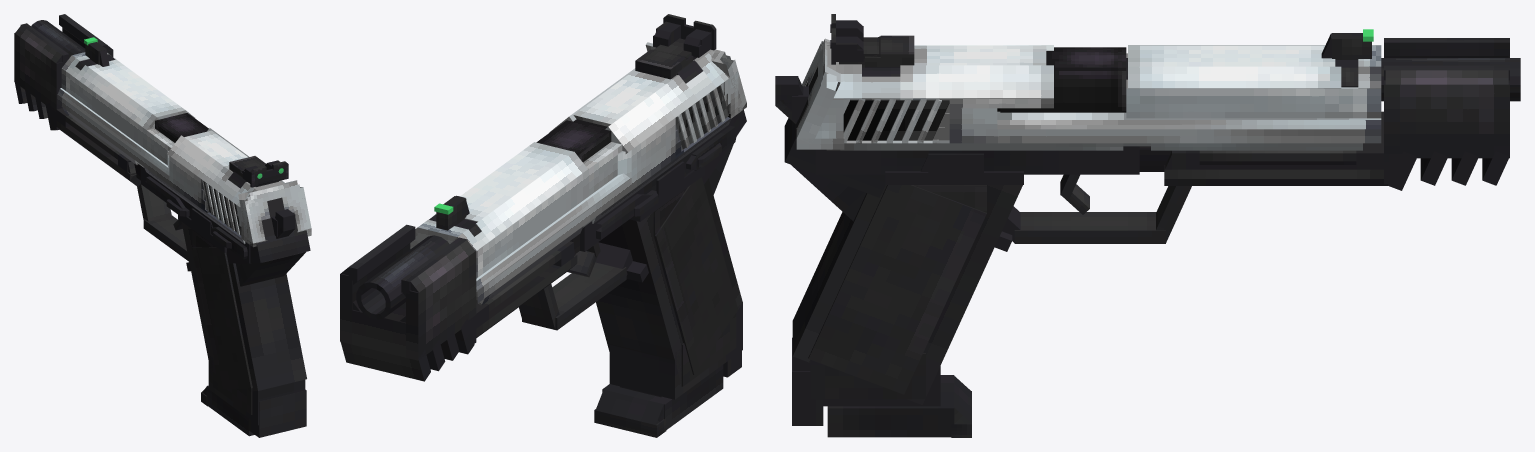
The model's file is HL2 USP.gltf.
3 renders of one model, left to right at view 1: azimuth 30°, elevation 25°; view 2: azimuth 150°, elevation 25°; view 3: azimuth 270°, elevation 25°, orthographic. The views are drawn at different scales.
Parts seen in each view (by area): view 1: grip_main_slope, grip_texture_base, l_comp_base, mid_top_a, grip_main_cube, mid_mid_a, lid_rear_c, lid_front_a, grip_back_tilt_a, grip_top_tilt, grip_main_bottom, mid_base (+29 smaller); view 2: grip_texture_base, grip_main_slope, l_comp_base, Grip (×3), grip_main_bottom, mid_top_a, mid_mid_a, lid_rear_c, lid_front_a, guard_bottom, mid_rear_c, comp_vent_tilt (×2) (+35 smaller); view 3: grip_texture_base, grip_main_slope, r_comp_base, mid_mid_a, frame_main_rear, lid_rear_c, Grip (×2), chamber_base_curve, mid_base, lid_front_a, guard_bottom, mid_top_a (+32 smaller).
Boxes of the visible parts, left/top/right/bottom form: grip_main_slope: left=181, top=221, right=306, bottom=391; grip_texture_base: left=191, top=247, right=252, bottom=388; l_comp_base: left=14, top=33, right=65, bottom=111; mid_top_a: left=88, top=59, right=185, bottom=119; grip_main_cube: left=248, top=389, right=306, bottom=437; mid_mid_a: left=61, top=68, right=154, bottom=149; lid_rear_c: left=167, top=135, right=232, bottom=190; lid_front_a: left=75, top=65, right=158, bottom=129; grip_back_tilt_a: left=227, top=229, right=310, bottom=263; grip_top_tilt: left=235, top=252, right=305, bottom=286; grip_main_bottom: left=208, top=355, right=305, bottom=425; mid_base: left=57, top=94, right=169, bottom=184; grip_texture_base: left=654, top=177, right=738, bottom=374; grip_main_slope: left=596, top=178, right=742, bottom=390; l_comp_base: left=406, top=250, right=476, bottom=360; Grip (×3): left=594, top=365, right=723, bottom=437; grip_main_bottom: left=609, top=303, right=742, bottom=399; mid_top_a: left=460, top=142, right=573, bottom=221; mid_mid_a: left=410, top=168, right=588, bottom=278; lid_rear_c: left=605, top=75, right=698, bottom=153; lid_front_a: left=475, top=151, right=587, bottom=240; guard_bottom: left=522, top=262, right=626, bottom=330; mid_rear_c: left=573, top=70, right=678, bottom=126; comp_vent_tilt (×2): left=340, top=318, right=474, bottom=381; grip_texture_base: left=808, top=185, right=986, bottom=394; grip_main_slope: left=792, top=185, right=1022, bottom=404; r_comp_base: left=1384, top=80, right=1509, bottom=158; mid_mid_a: left=1126, top=53, right=1381, bottom=118; frame_main_rear: left=815, top=146, right=1139, bottom=174; lid_rear_c: left=900, top=65, right=1053, bottom=100; Grip (×2): left=827, top=375, right=971, bottom=437; chamber_base_curve: left=1000, top=47, right=1126, bottom=112; mid_base: left=1046, top=129, right=1381, bottom=143; lid_front_a: left=1128, top=66, right=1341, bottom=88; guard_bottom: left=1014, top=212, right=1165, bottom=243; mid_top_a: left=1128, top=45, right=1335, bottom=66.
Bounding box in the file's own units: 0.1106 × 0.4435 × 0.7584.
1 material, 1 textured.
